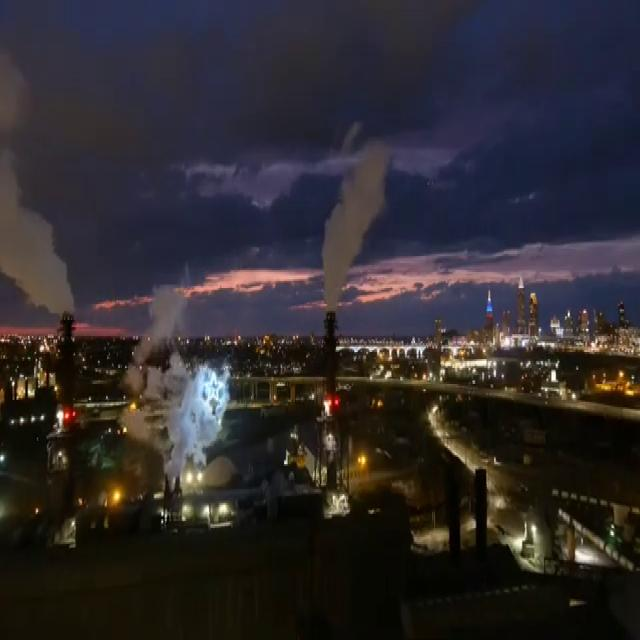smoke: (0, 68, 71, 315), (141, 288, 229, 487), (320, 132, 390, 322)
